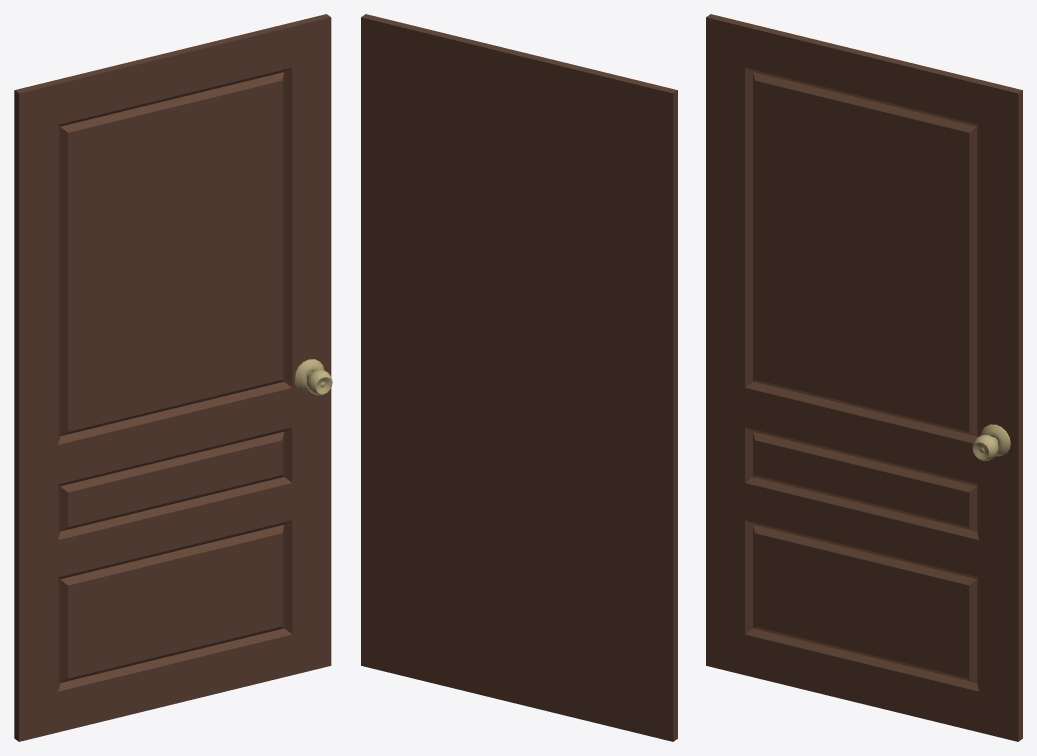
The model's file is DoorLocked.fbx.
3 views of the same model, side by side, from view 1: azimuth 30°, elevation 25°; view 2: azimuth 150°, elevation 25°; view 3: azimuth 330°, elevation 25° (orthographic).
Parts seen in each view (by area): view 1: DoorGeo, DoorHandle; view 2: DoorGeo; view 3: DoorGeo, DoorHandle.
Part boxes in pixels (<box>): DoorGeo: <box>14,14,331,741</box>; DoorHandle: <box>294,359,332,395</box>; DoorGeo: <box>361,14,677,741</box>; DoorGeo: <box>706,14,1022,741</box>; DoorHandle: <box>972,424,1010,460</box>.
Size of the model in its own units: 120 by 239 by 13.02.
